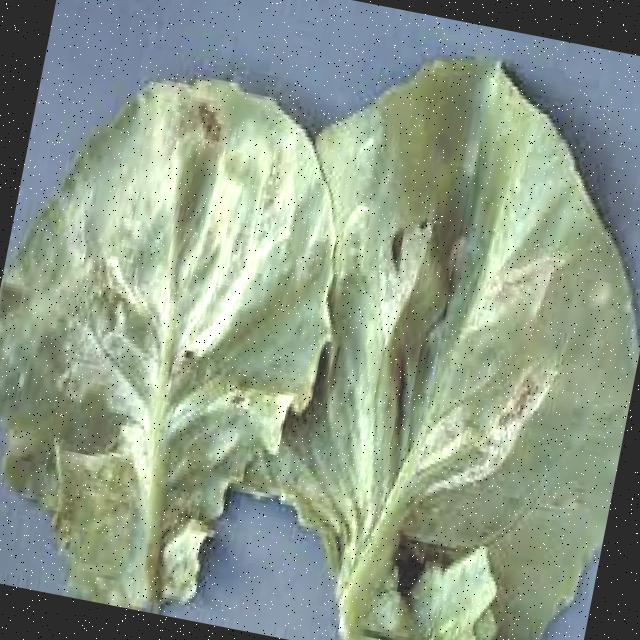Downy_mildew_on_lettuce: (311, 178, 590, 533), (46, 114, 301, 494)
